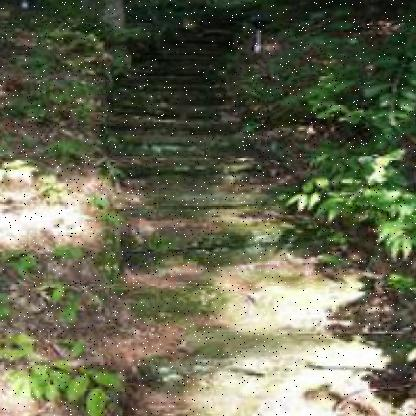stair_up: (98, 120, 339, 366)
